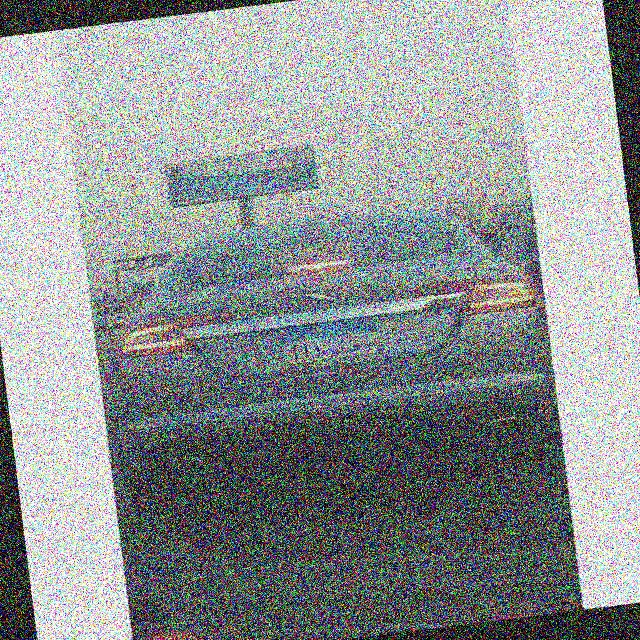License Plate: (274, 314, 384, 369)
